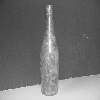beer: (41, 4, 63, 99)
